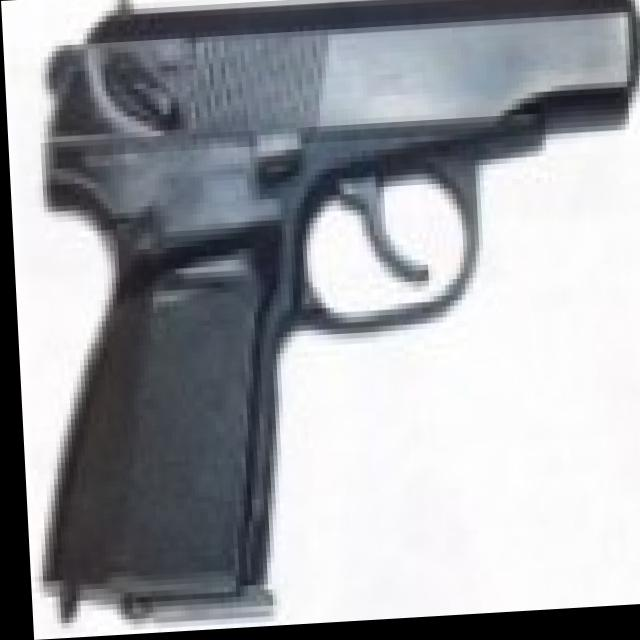handgun: (16, 0, 640, 628)
